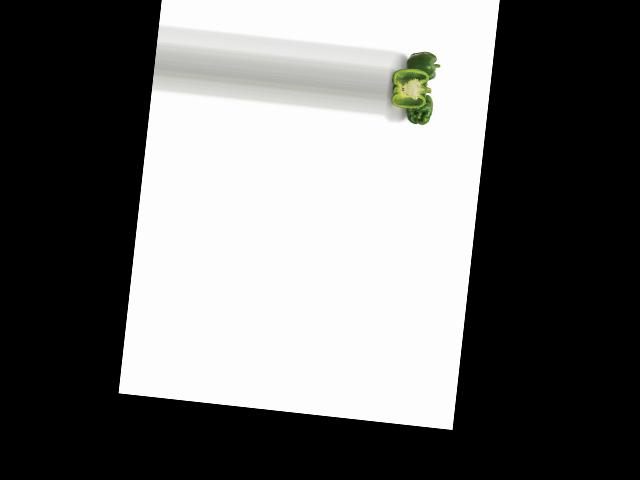bell_pepper: (400, 89, 437, 129)
